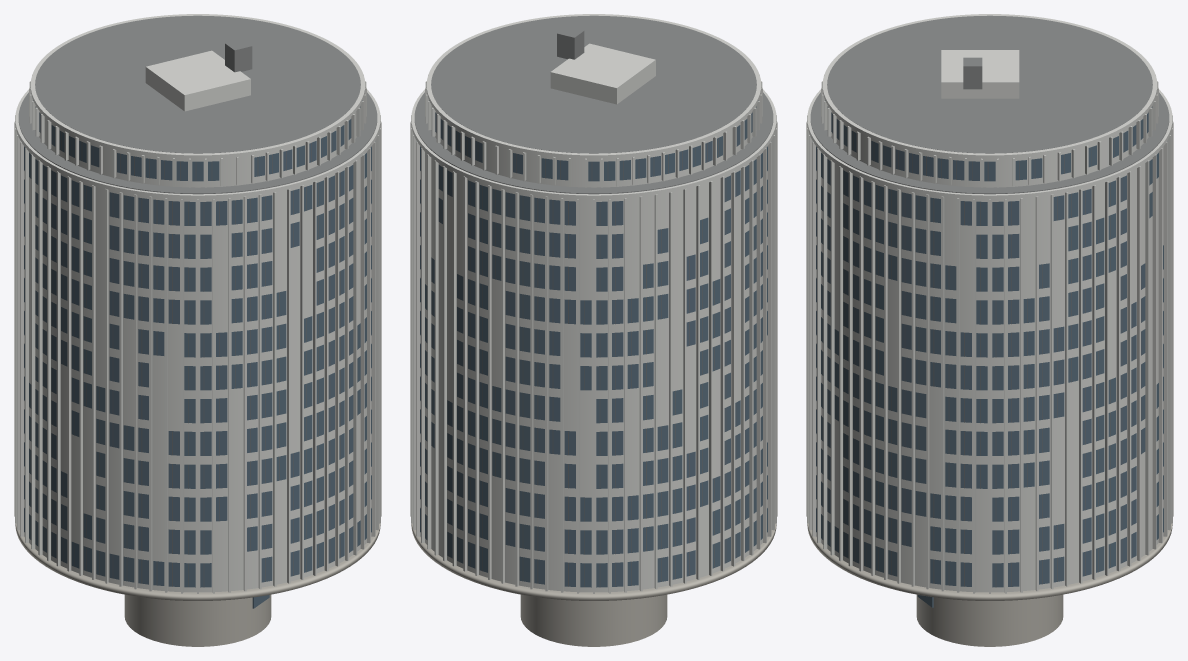
Rendered from schutterstoren.glb.
3 views of the same model, side by side, from view 1: azimuth 30°, elevation 25°; view 2: azimuth 150°, elevation 25°; view 3: azimuth 270°, elevation 25° (orthographic).
Parts seen in each view (by area): view 1: schutterstoren; view 2: schutterstoren; view 3: schutterstoren.
Boxes of the visible parts, x1=… form: schutterstoren: x1=14, y1=14, x2=381, y2=646; schutterstoren: x1=410, y1=14, x2=777, y2=646; schutterstoren: x1=806, y1=14, x2=1173, y2=646.
Bounding box in the file's own units: 28.74 × 49.2 × 28.74.
